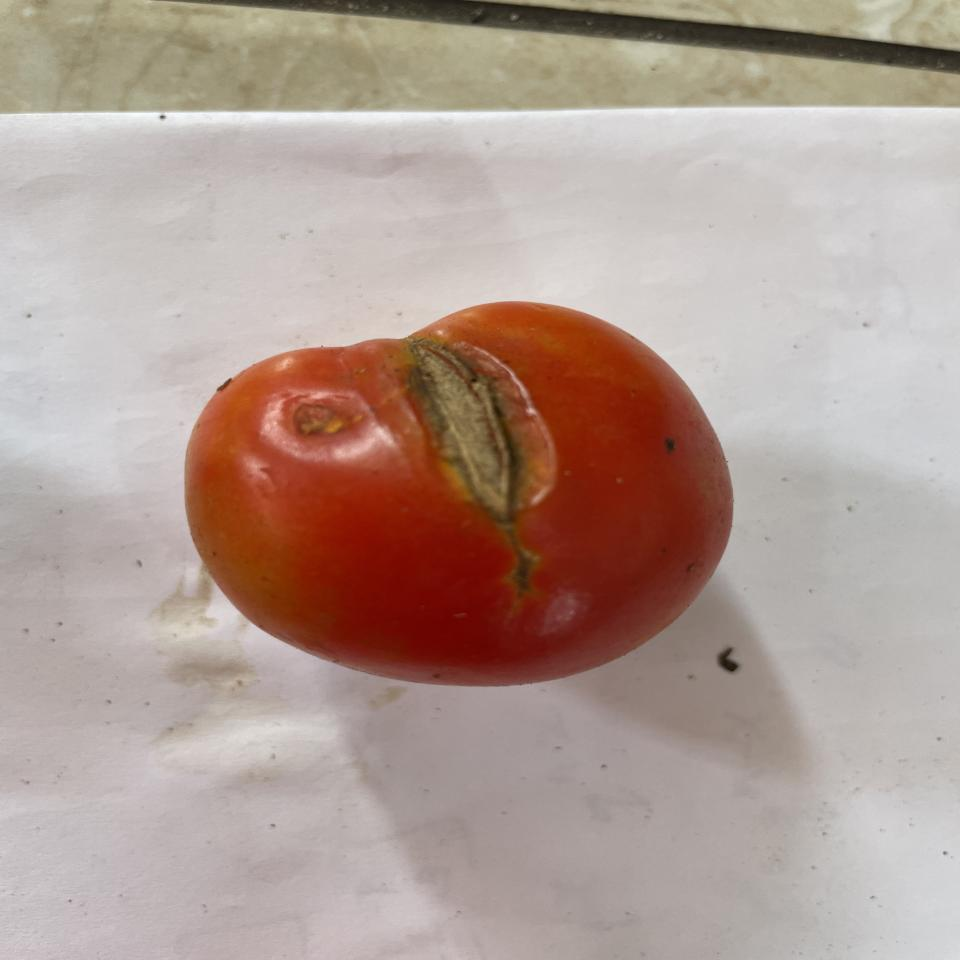Cracking: (395, 333, 573, 555)
